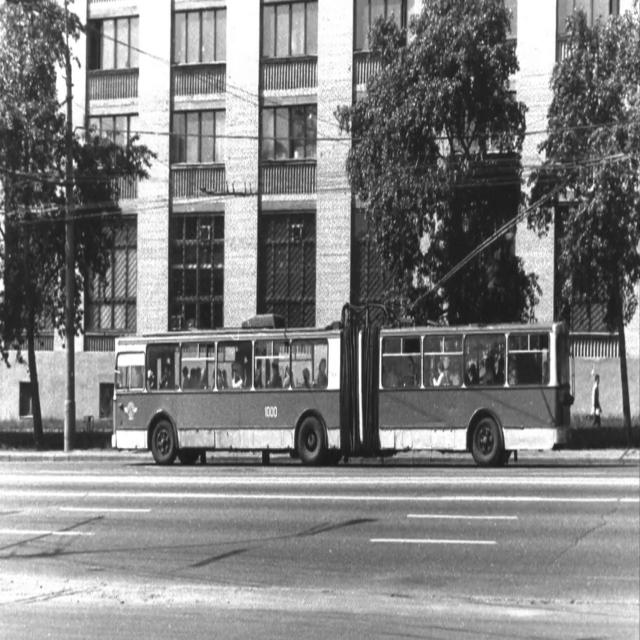bus: (108, 322, 579, 475)
